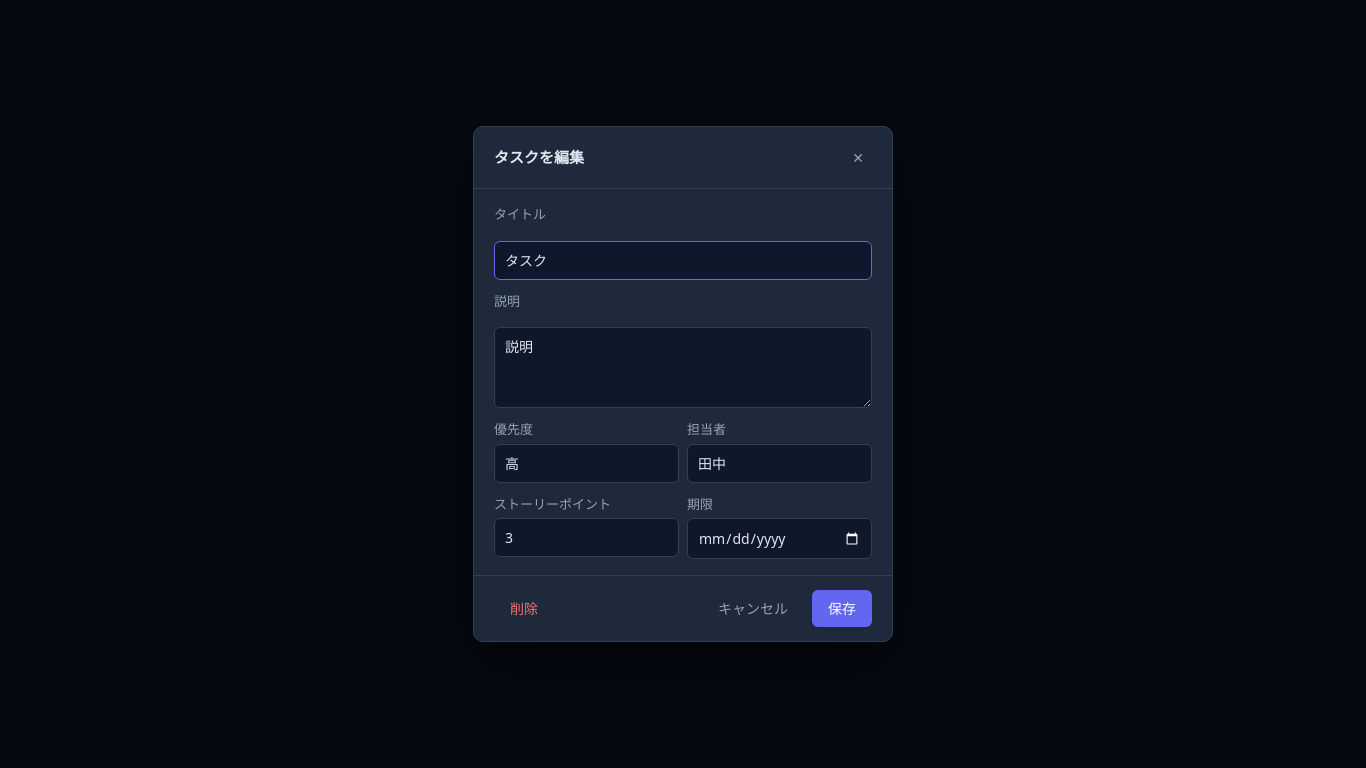
Scenario: CardModal (R-002, R-003) › タイトルが空のとき保存ボタンは非活性 (S-002-03)
Clear the 1st field showing "タスク" at [683, 260], box [494,240,872,280]
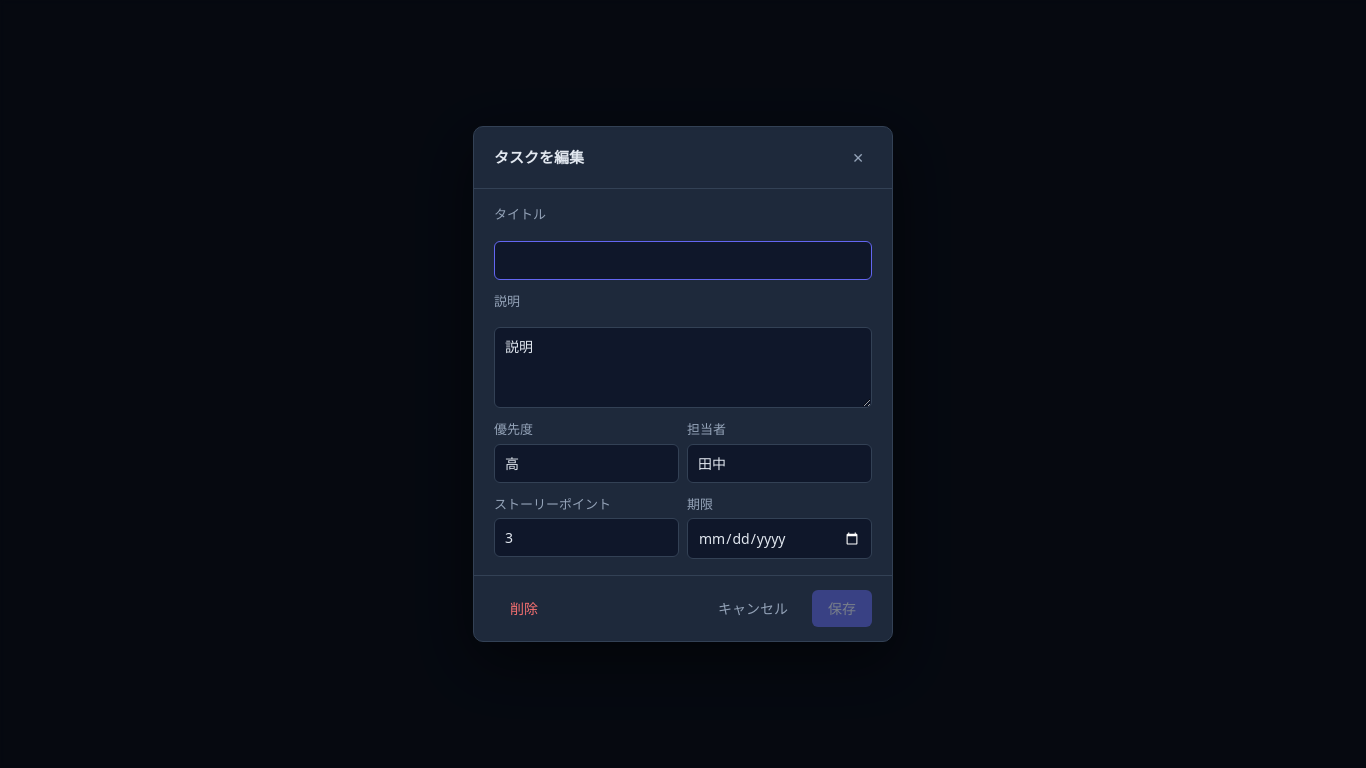
Check: the button "保存" is disabled, box [812,590,872,627]
